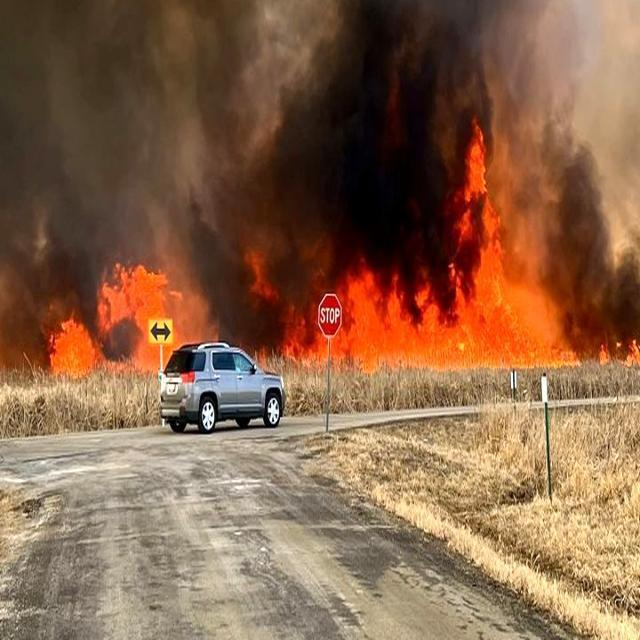Fire: (302, 163, 592, 382), (42, 250, 191, 371)
Smoke: (0, 0, 619, 290)
